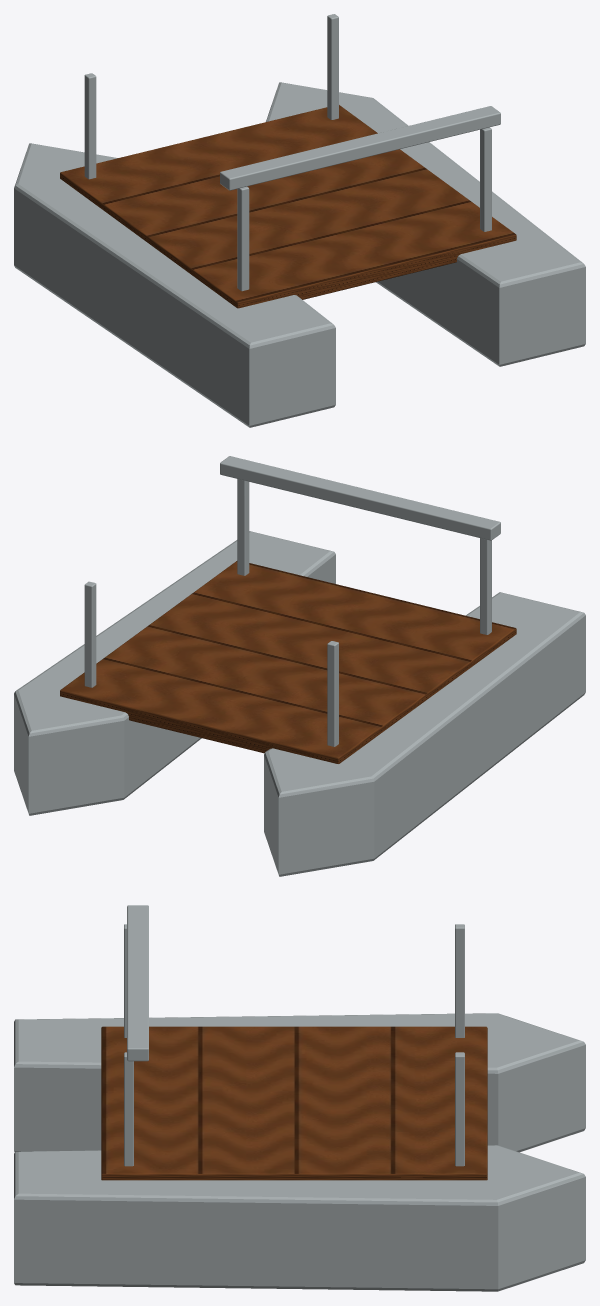
Rendered from flooded-and-coastal-survival-catamaran-work-platform-d2d8a570__20047.glb.
The picture shows the model from 3 angles, top to bottom: view 1: azimuth 30°, elevation 25°; view 2: azimuth 150°, elevation 25°; view 3: azimuth 270°, elevation 25°; orthographic projection. The views are drawn at different scales.
Parts seen in each view (by area): view 1: catamaran-work-platform; view 2: catamaran-work-platform; view 3: catamaran-work-platform.
Part boxes in pixels (x1,y1,x2,y2): catamaran-work-platform: (14, 14, 585, 427); catamaran-work-platform: (14, 456, 585, 876); catamaran-work-platform: (14, 905, 585, 1291).
Size of the model in its own units: 2.45 by 1.33 by 3.11.
2 materials, 1 textured.
